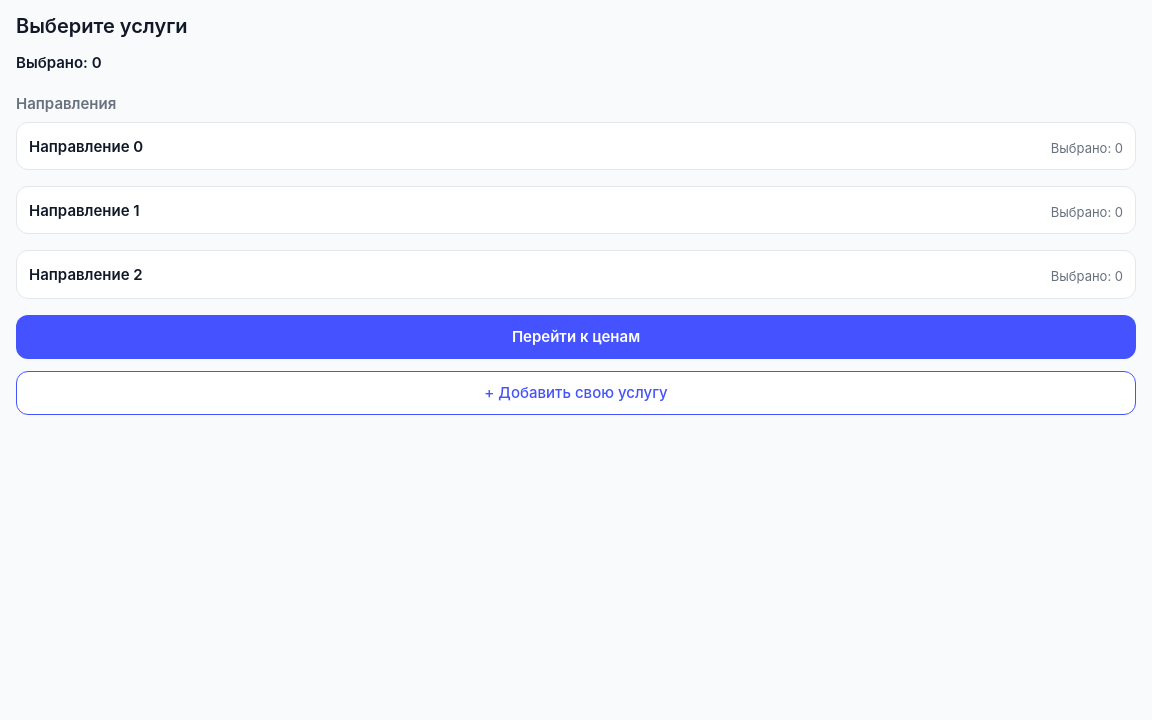
it: MasterServiceSelectScreen — шаблоны направления › T2: search narrows the list; nothing found has its own line
The image size is (1152, 720).
Click the button "Направление 0 Выбрано: 0": (86, 146) [16,122,1136,170]
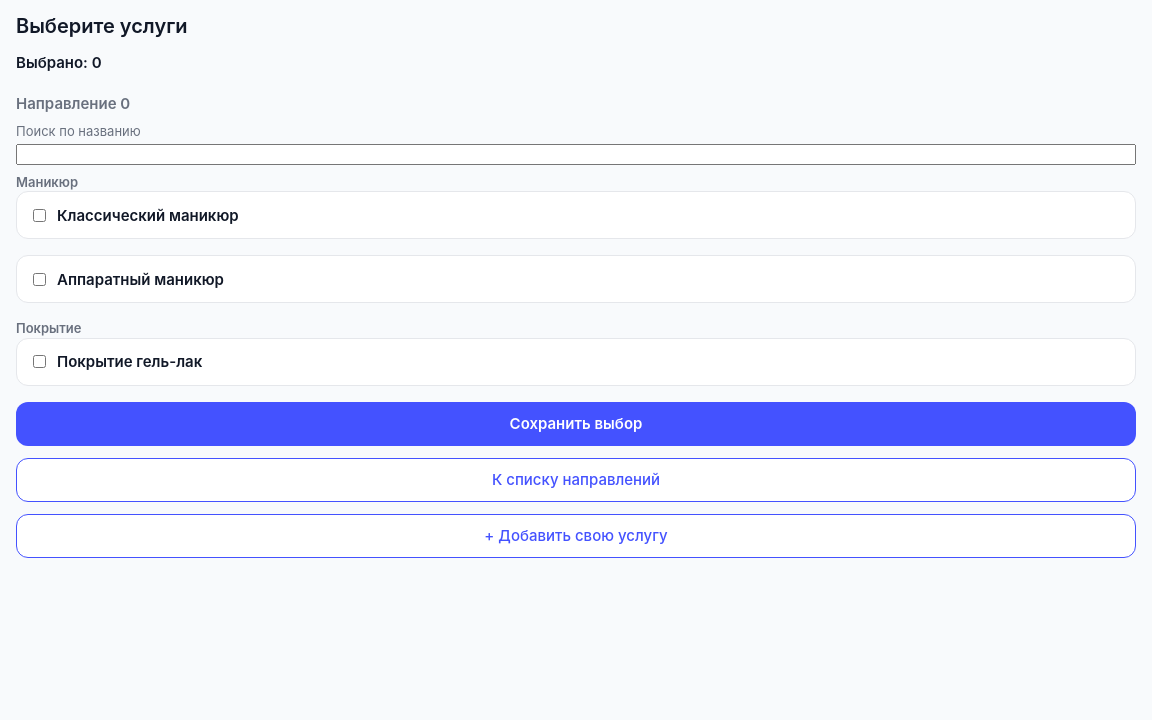
In the search field labelled "Поиск по названию": (576, 155) [16,144,1136,165], type "аппарат"
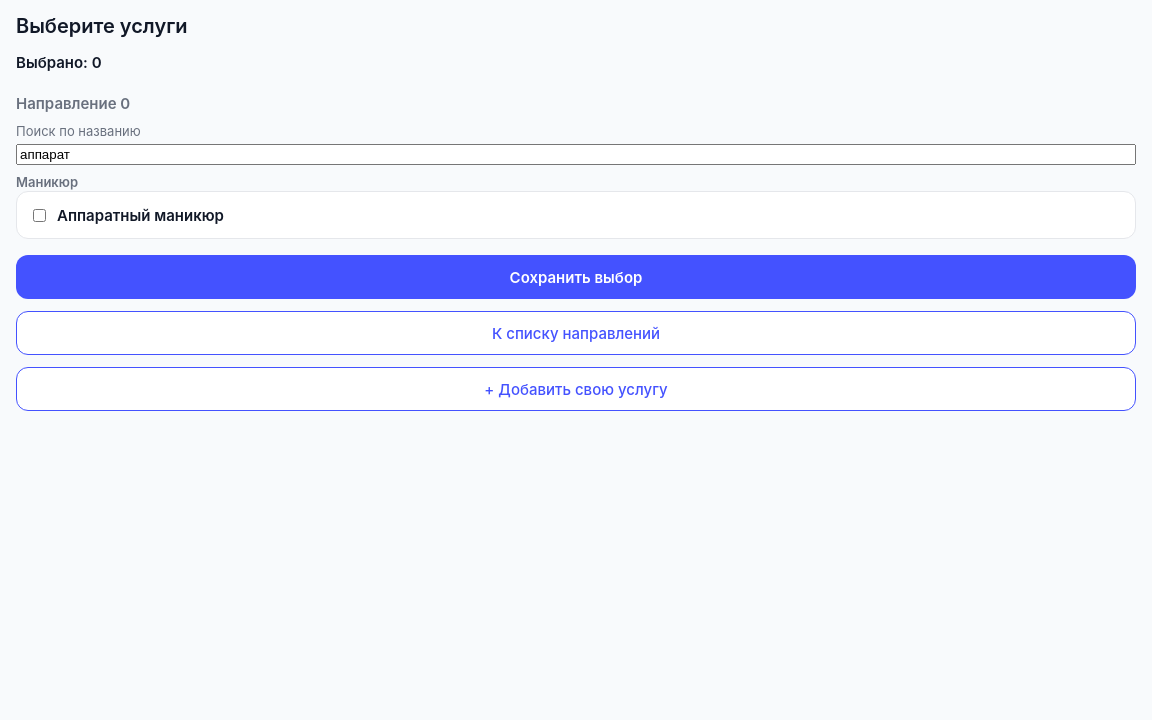
Now the checkbox labelled "Аппаратный маникюр" is shown, box [33,209,46,222]
Now the text labelled "Классический маникюр" is gone
Replace the text in the search field labelled "Поиск по названию" with "педикюр": (576, 155) [16,144,1136,165]
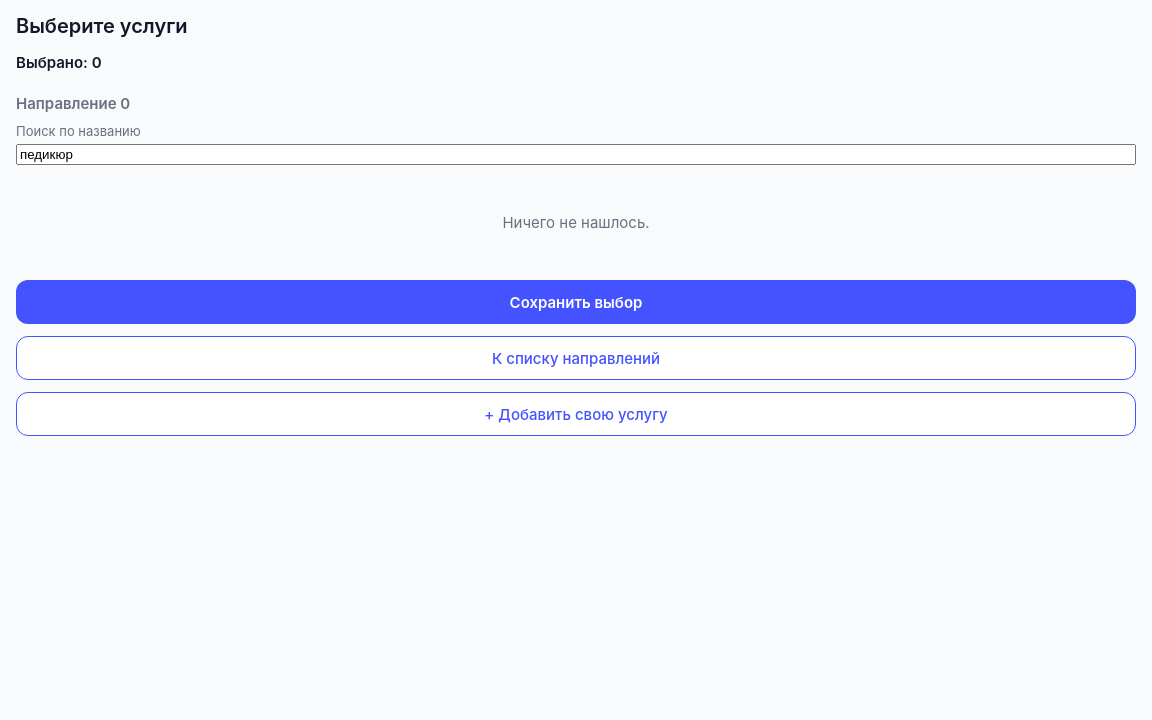
Now the text "Ничего не нашлось." is shown, box [502,213,650,232]
